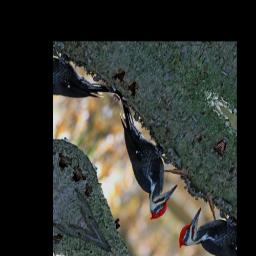Woodpecker: (81, 94, 195, 227)
